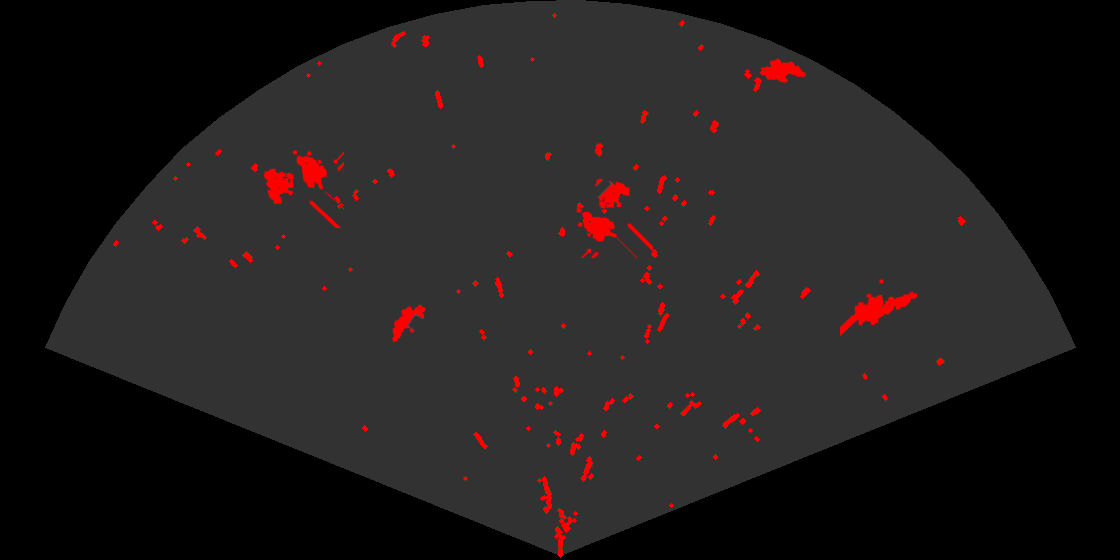AUV: (391, 303, 427, 344), (758, 57, 807, 84)
cage: (262, 149, 344, 228), (575, 177, 653, 258)
frogman: (840, 290, 919, 338)
